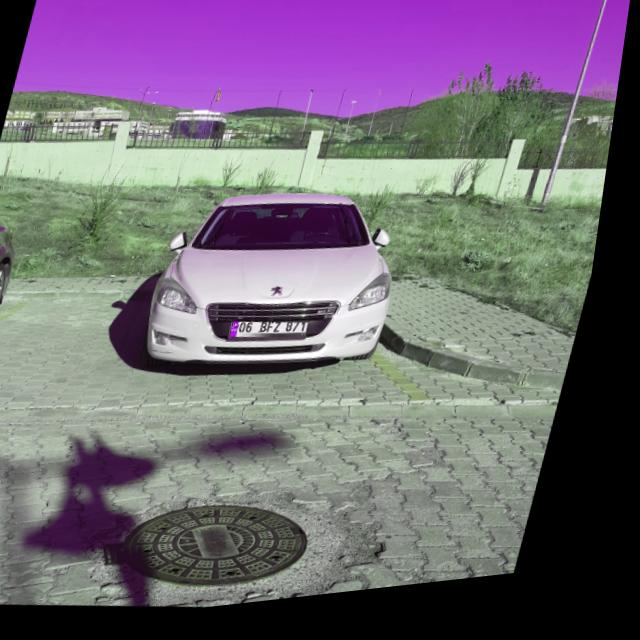license_plate: (237, 322, 319, 352)
